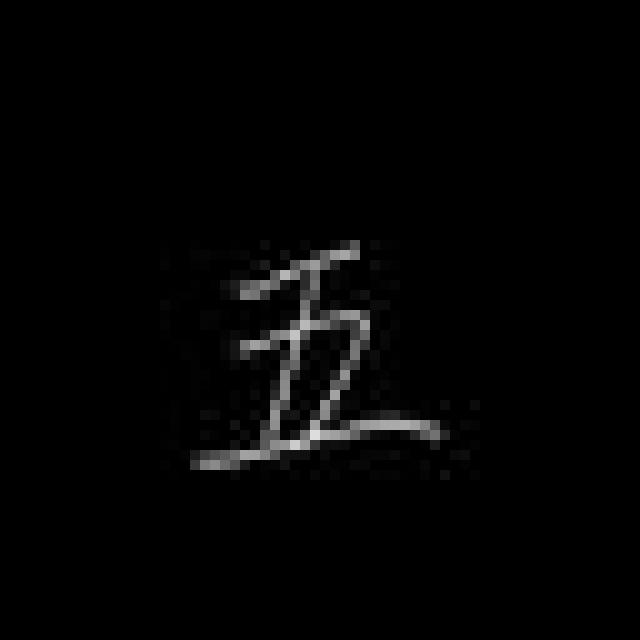5 -five-: (184, 223, 444, 495)
